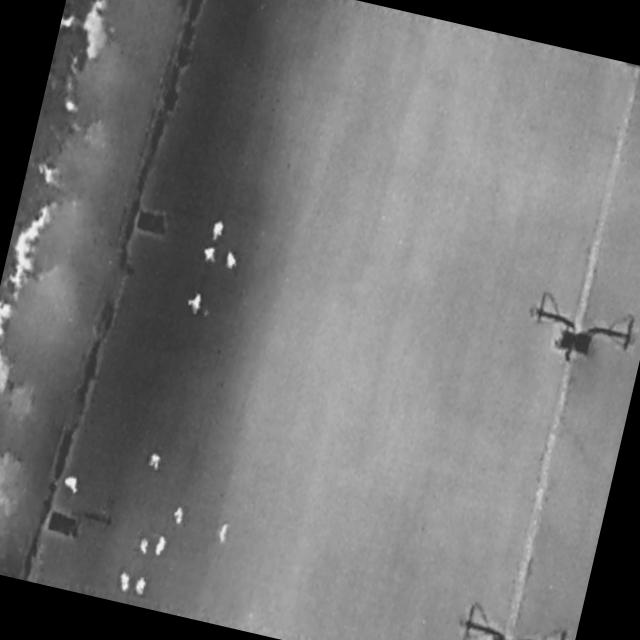person: (215, 519, 232, 547), (209, 218, 226, 244), (186, 292, 204, 316), (117, 570, 135, 594), (61, 474, 81, 495), (133, 576, 149, 597), (202, 246, 219, 265), (154, 535, 168, 558), (147, 452, 163, 471), (226, 250, 239, 272), (173, 506, 186, 527), (139, 538, 151, 555)
